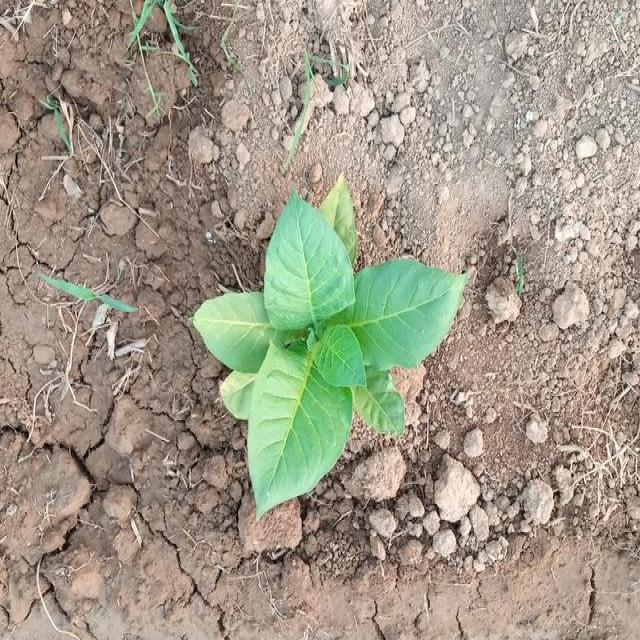crop: (210, 172, 455, 504)
